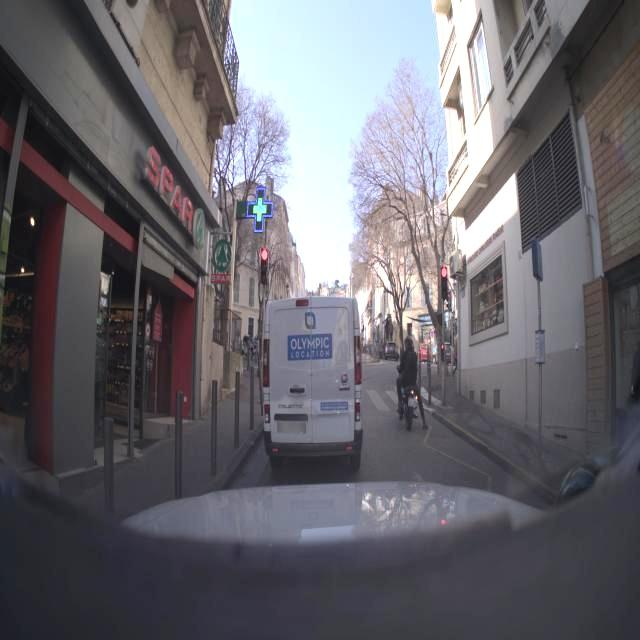Red: (258, 246, 273, 286), (438, 264, 450, 302)
